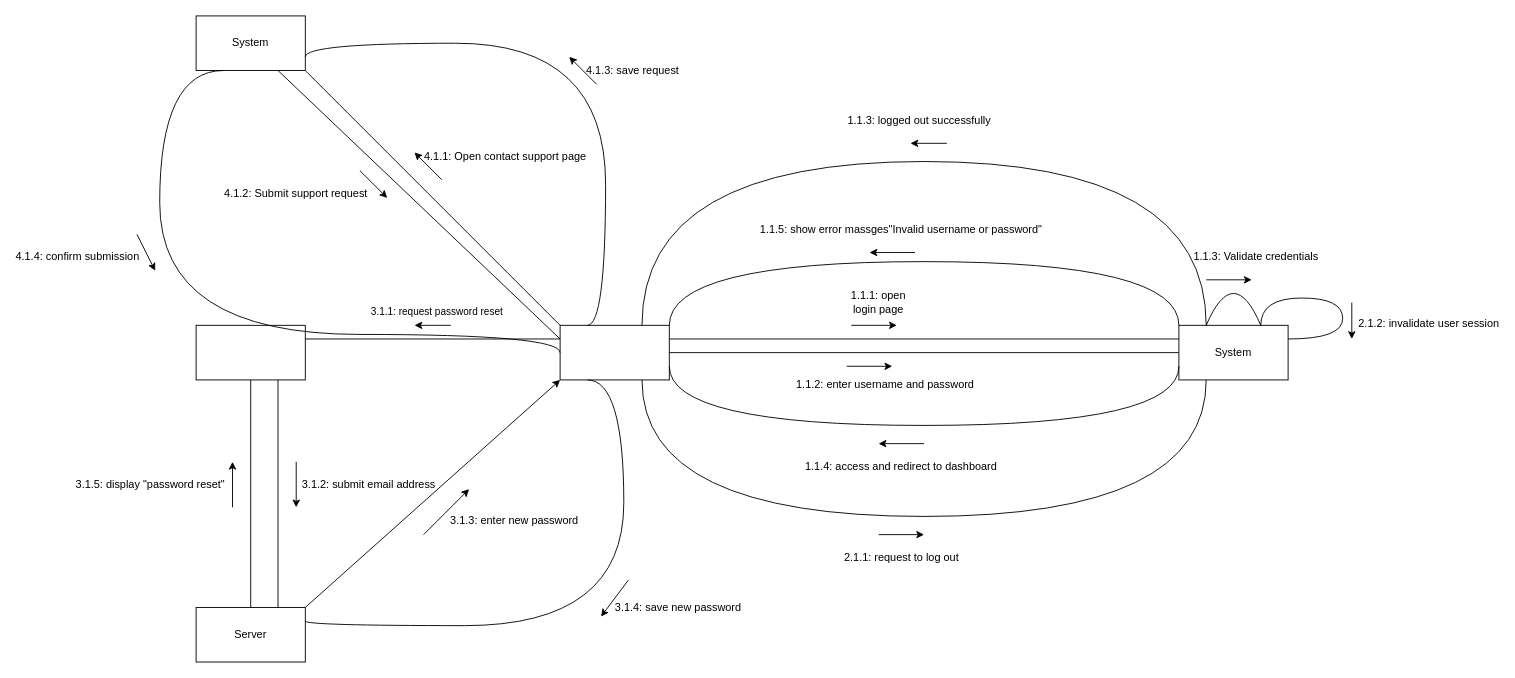
Image size: 1515x678. Some labels were removed from this diagram. The shapes that lost their labels are listed below. From the top down, each one's box as (x1, y1, x2, y2) in pixels, then its label:
(195, 324, 305, 380): UI
(559, 324, 669, 380): User
